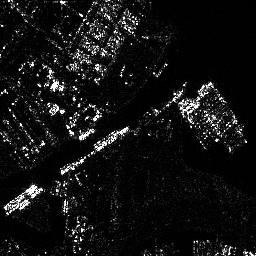ship: (2, 183, 38, 210)
